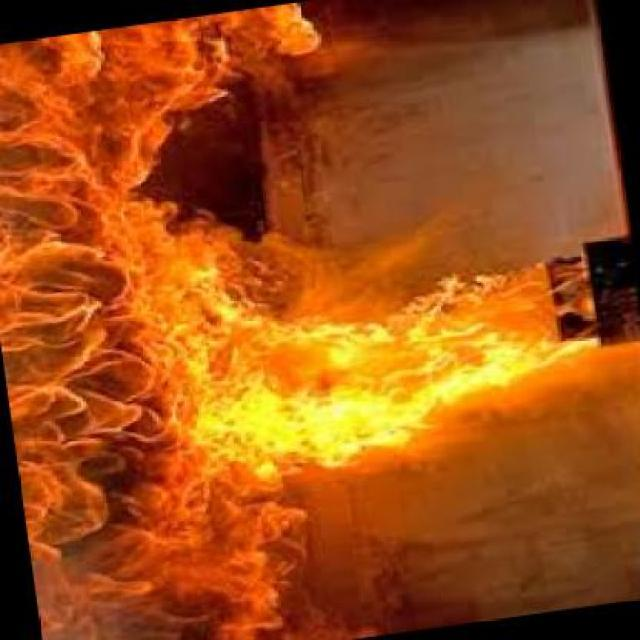Fire: (10, 38, 509, 587)
